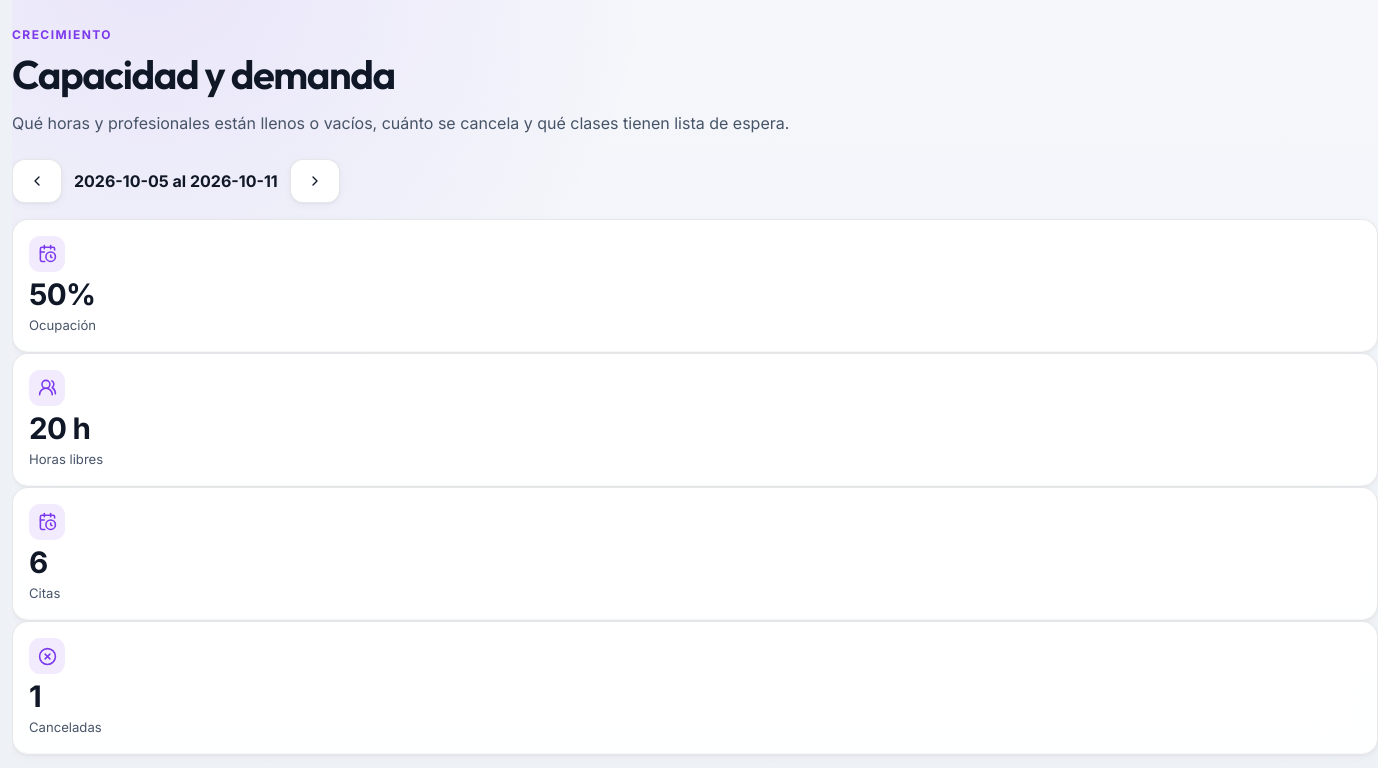
the next-week button asks for the following Monday
Click the button named "Semana siguiente" at (315, 181), box [290,159,340,203]
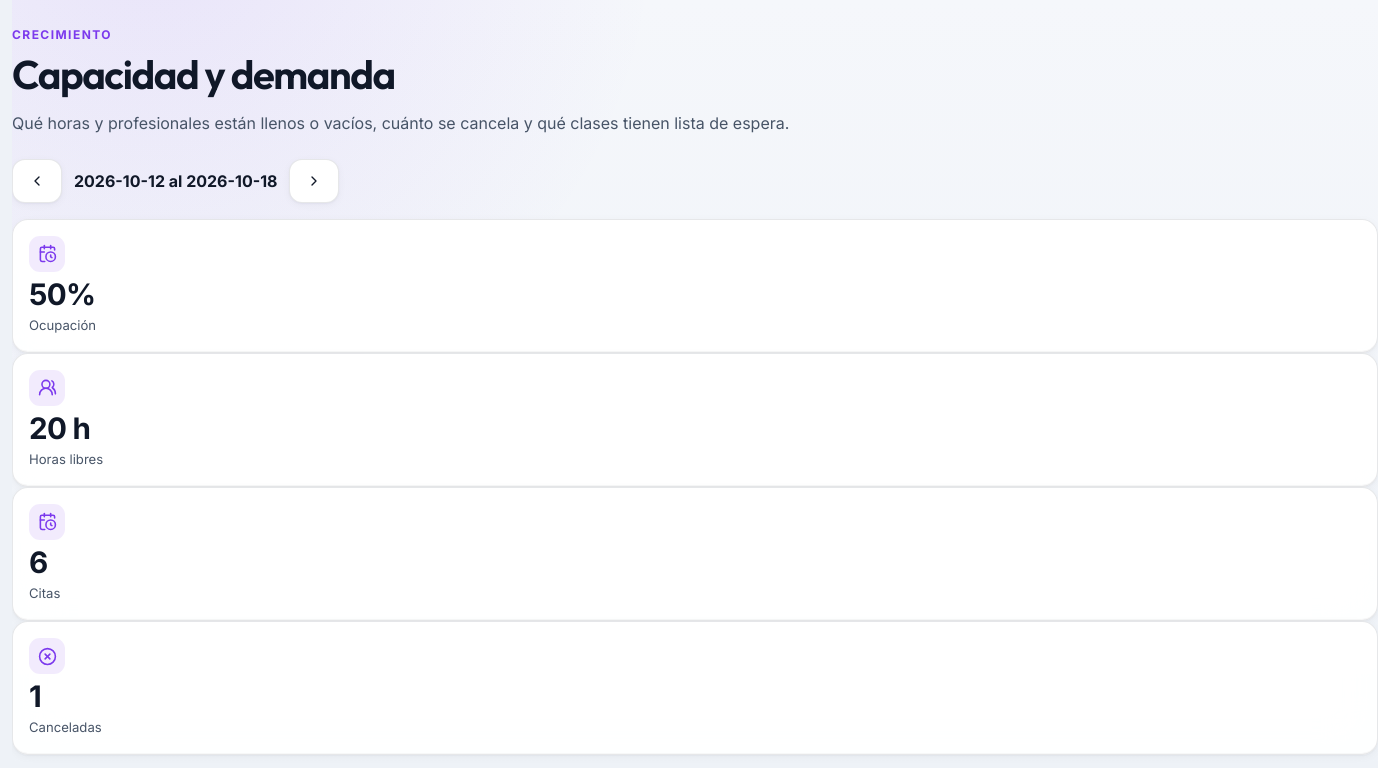
Expected: the element with test id "capacity-week" reads "2026-10-12 al 2026-10-18", [74,171,278,191]
